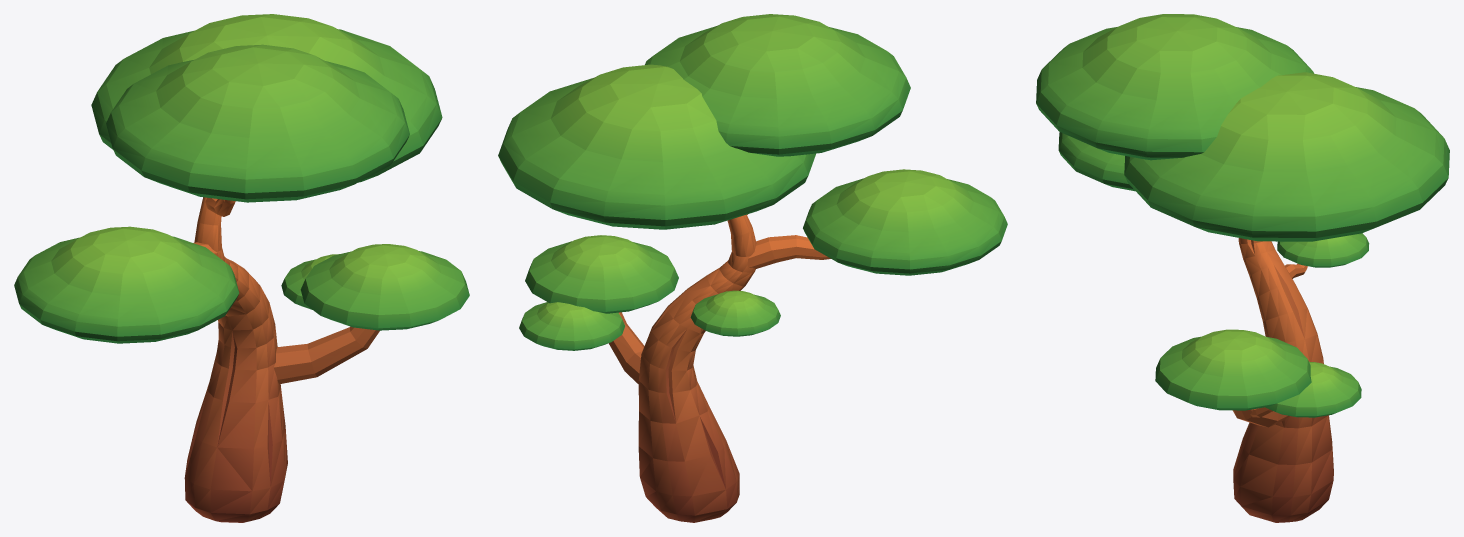
Rendered from kf_tree_3_c.fbx.
The picture shows the model from 3 angles, left to right: view 1: azimuth 30°, elevation 25°; view 2: azimuth 150°, elevation 25°; view 3: azimuth 270°, elevation 25°; orthographic projection. The views are drawn at different scales.
Visible parts, largest first — view 1: kf_tree_3_c_LOD0; view 2: kf_tree_3_c_LOD0; view 3: kf_tree_3_c_LOD0.
Boxes of the visible parts, x1=… form: kf_tree_3_c_LOD0: x1=14, y1=14, x2=469, y2=522; kf_tree_3_c_LOD0: x1=498, y1=14, x2=1007, y2=522; kf_tree_3_c_LOD0: x1=1036, y1=14, x2=1449, y2=522.
Size of what is drawn, in the model's own units: 6.48 by 6.66 by 5.32.
1 material, 1 textured.
